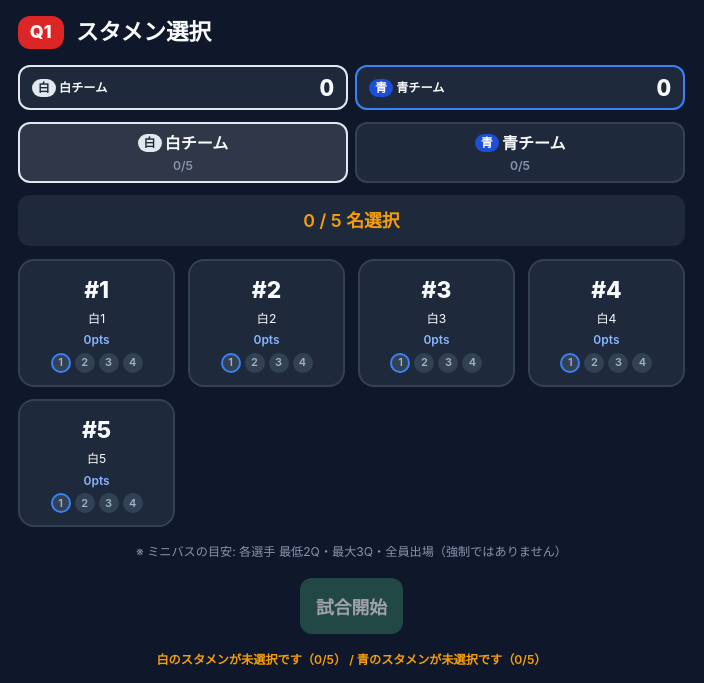
Test case: QuarterLineup チームタブ › タブに各チームの選択状況を表示する
Click the button "#1 白1 0pts 1 2 3 4": (97, 323) [18, 258, 176, 387]
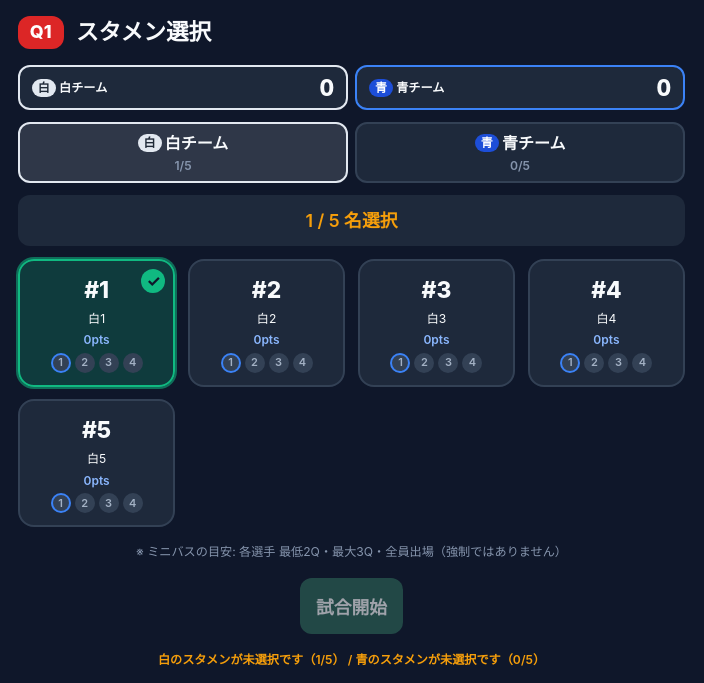
Click the button "#2 白2 0pts 1 2 3 4": (266, 323) [188, 258, 345, 387]
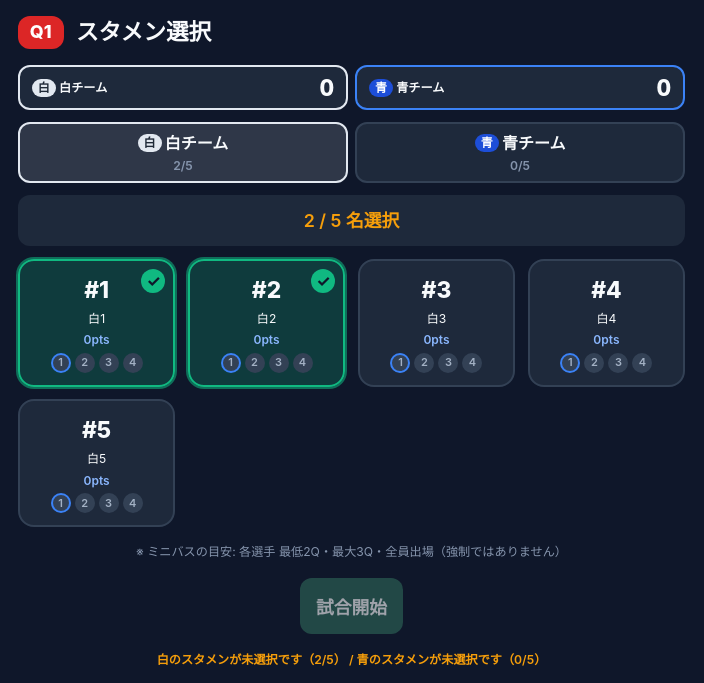
Click the button "#3 白3 0pts 1 2 3 4": (436, 323) [358, 258, 515, 387]
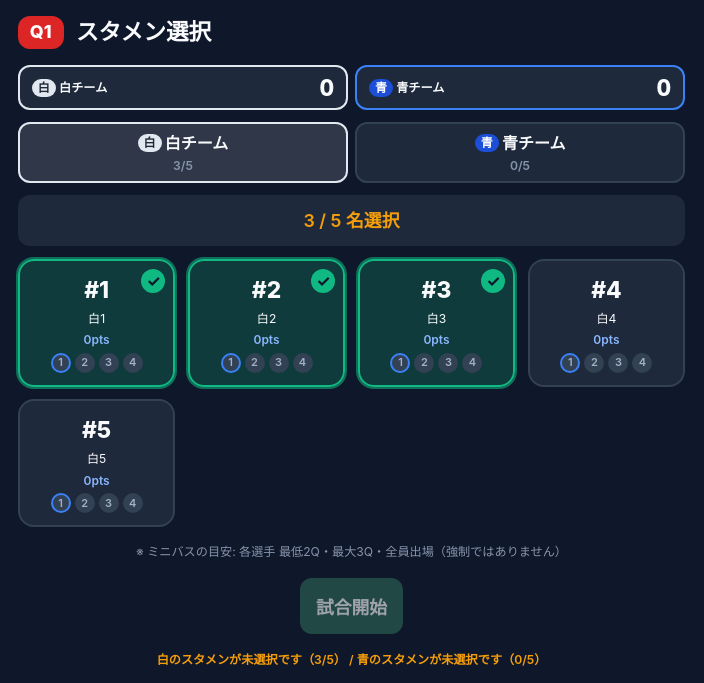
Click the button "#4 白4 0pts 1 2 3 4": (606, 323) [528, 258, 685, 387]
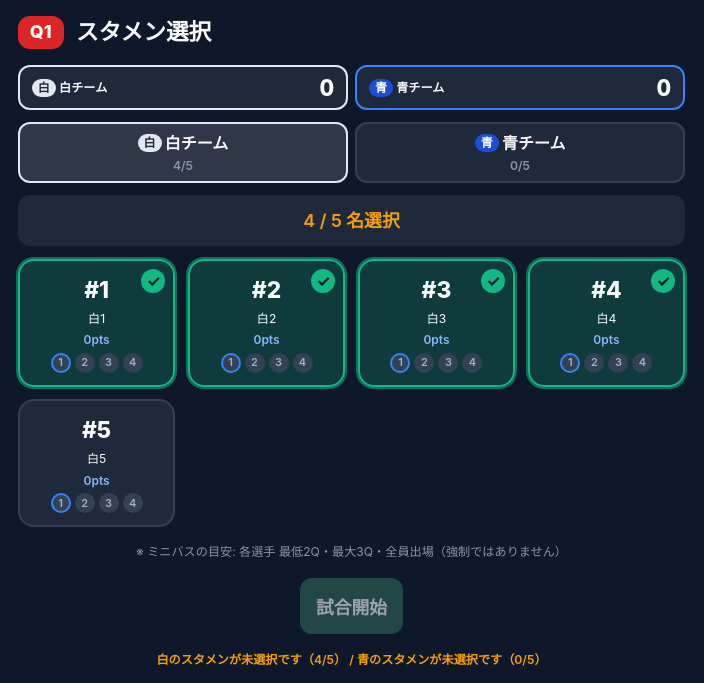
Click the button "#5 白5 0pts 1 2 3 4": (97, 463) [18, 399, 176, 527]
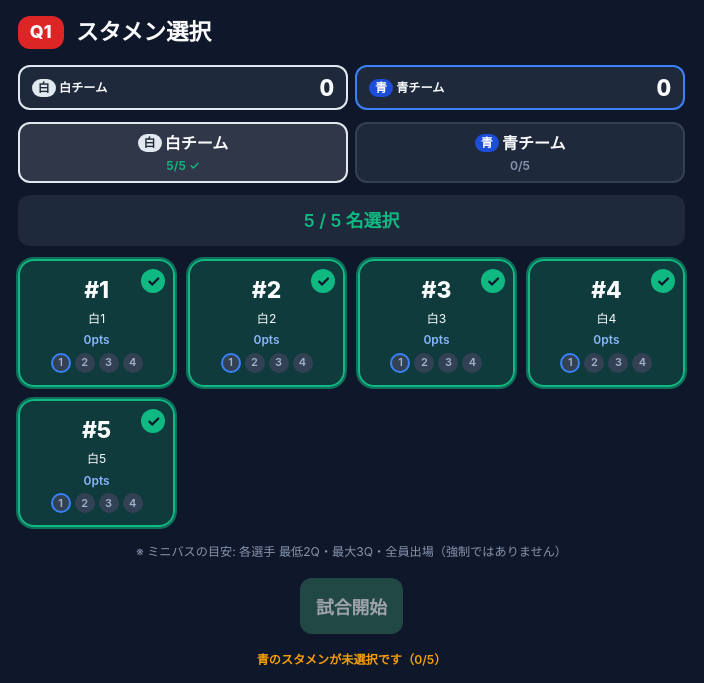
Expected: the tab "青 青チーム 0/5" is shown, [355, 122, 685, 183]
Result: the tab "白 白チーム 5/5 ✓" is shown at [18, 122, 348, 183]
